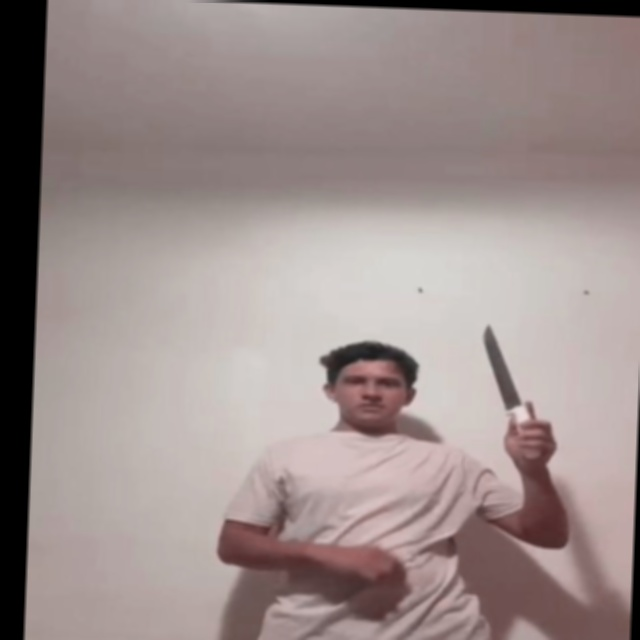Sharp-Object: (476, 323, 519, 408)
